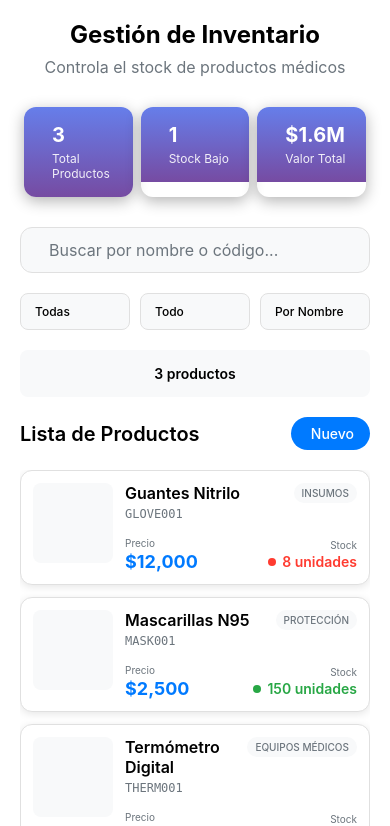
it: InventoryScreen › Modal Interactions › opens category filter modal
The width and height of the screenshot is (390, 826).
Click the text "Todas": (52, 312) x1=35 y1=304 x2=70 y2=319
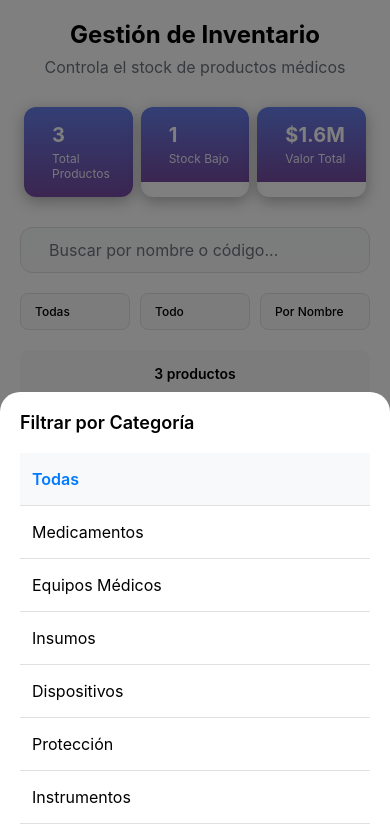
expect the text "Filtrar por Categoría" is shown: met, box x1=20 y1=412 x2=194 y2=433
